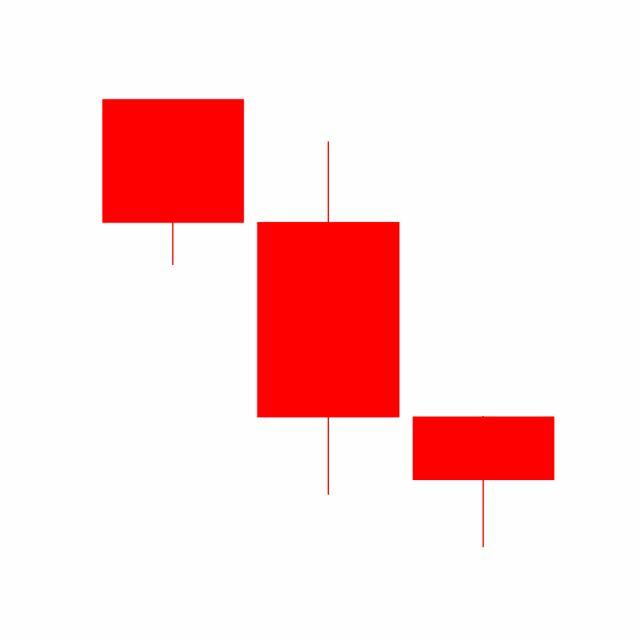Hammer: (406, 415, 562, 550)
